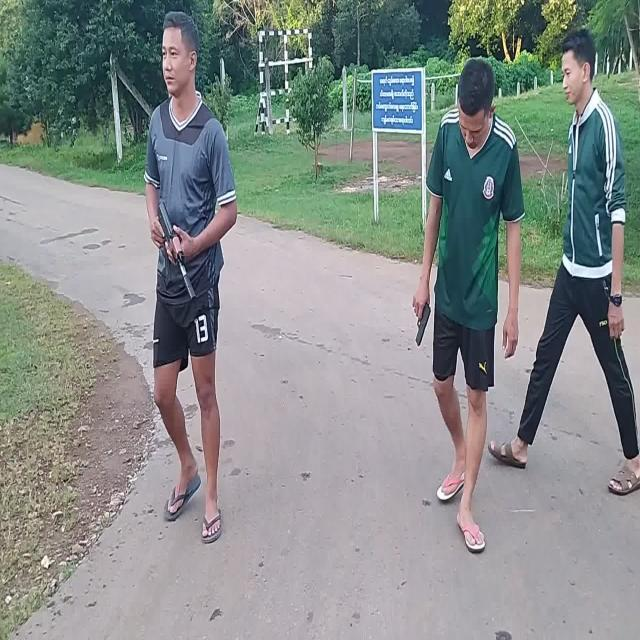gun: (158, 204, 196, 303), (416, 303, 431, 347)
